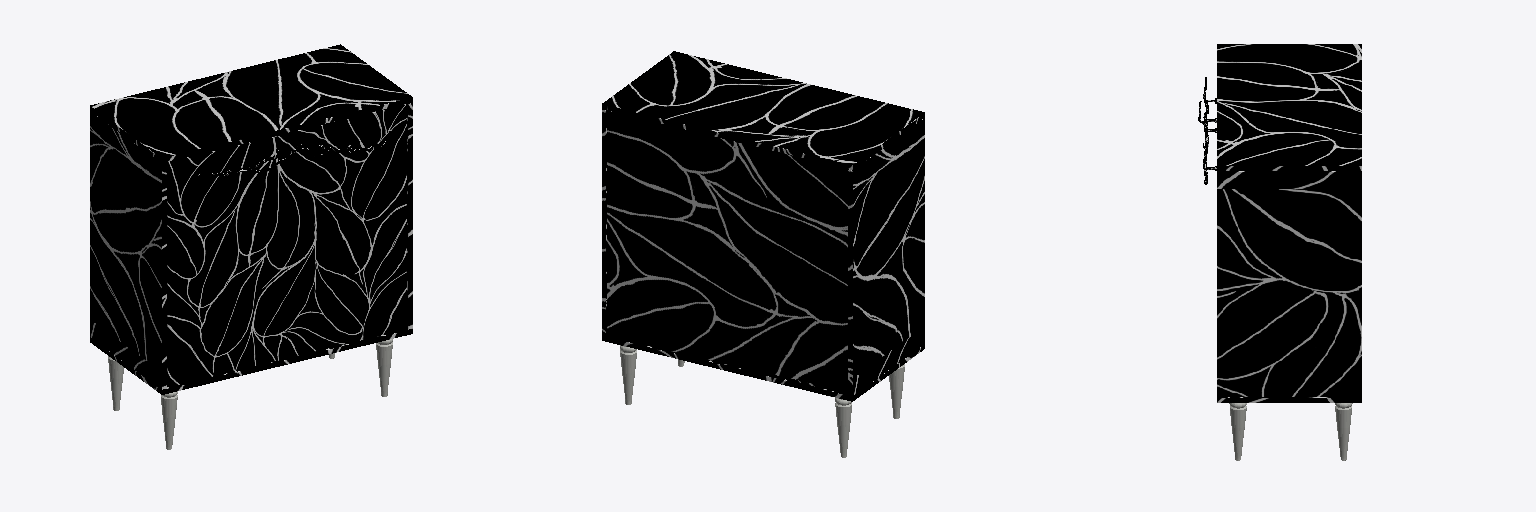
3 views of the same model, side by side, from view 1: azimuth 30°, elevation 25°; view 2: azimuth 150°, elevation 25°; view 3: azimuth 270°, elevation 25° (orthographic).
Visible parts, largest first — view 1: Object004.002, Box008.002, Cylinder002.002, Plane005.002, Line013.002, Line011.002, Line012.002; view 2: Box008.002, Line010.002, Line012.002, Line013.002; view 3: Box008.002, Line010.002, Line011.002, Cylinder002.002.
Boxes of the visible parts, box(x1,y1,x2,y2) form: Object004.002: box(168, 105, 406, 386); Box008.002: box(90, 44, 412, 394); Cylinder002.002: box(197, 141, 386, 175); Plane005.002: box(167, 104, 406, 386); Line013.002: box(161, 391, 177, 449); Line011.002: box(376, 339, 392, 396); Line012.002: box(108, 356, 123, 410); Box008.002: box(602, 51, 924, 401); Line010.002: box(620, 345, 636, 404); Line012.002: box(835, 398, 851, 457); Line013.002: box(889, 364, 904, 418); Box008.002: box(1217, 44, 1361, 402); Line010.002: box(1335, 403, 1352, 460); Line011.002: box(1229, 403, 1246, 460); Cylinder002.002: box(1198, 77, 1216, 184).
Bounding box in the file's own units: 0.56 × 0.6439 × 0.3156.
4 materials, 2 textured.